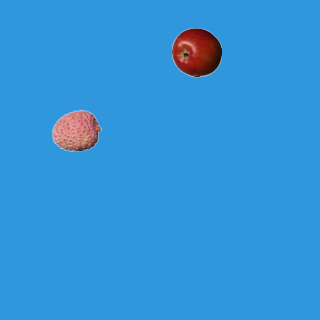Apple Braeburn: (171, 27, 221, 77)
Lychee: (51, 105, 101, 155)
